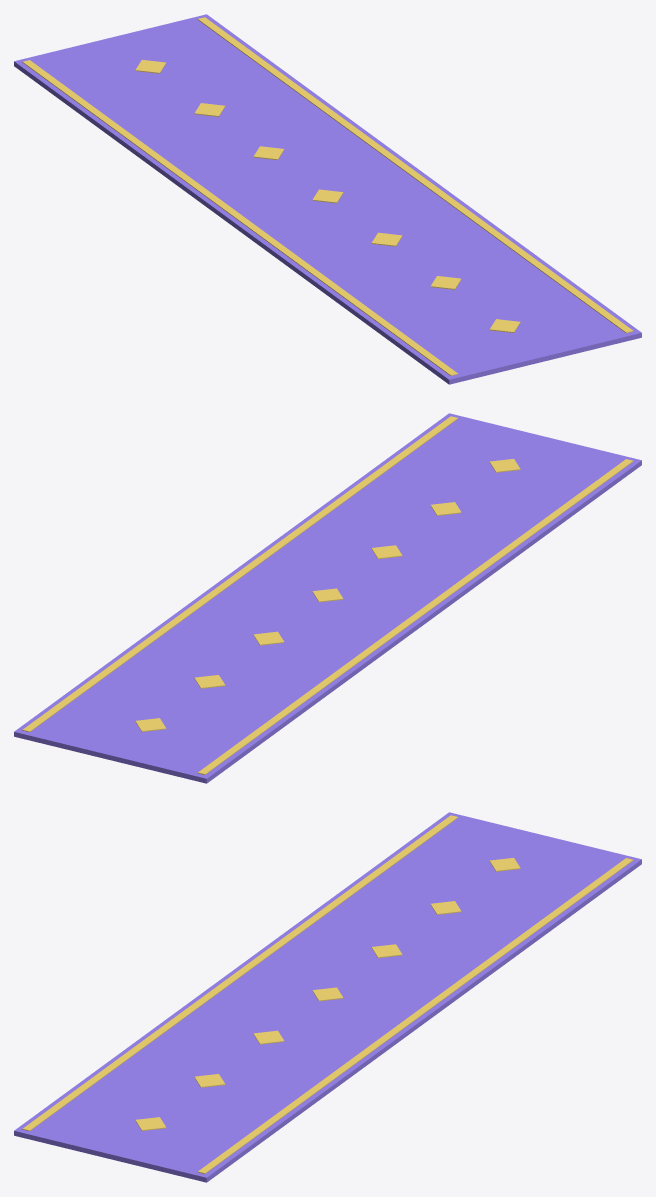
The picture shows the model from 3 angles, top to bottom: view 1: azimuth 30°, elevation 25°; view 2: azimuth 150°, elevation 25°; view 3: azimuth 330°, elevation 25°; orthographic projection.
Visible parts, largest first — view 1: Aisle runner, Woven gold border, Woven gold border.001; view 2: Aisle runner, Woven gold border, Woven gold border.001; view 3: Aisle runner, Woven gold border, Woven gold border.001.
Boxes of the visible parts, x1=… form: Aisle runner: x1=14, y1=14, x2=641, y2=384; Woven gold border: x1=22, y1=60, x2=457, y2=375; Woven gold border.001: x1=197, y1=17, x2=633, y2=333; Aisle runner: x1=14, y1=413, x2=641, y2=783; Woven gold border: x1=198, y1=459, x2=633, y2=774; Woven gold border.001: x1=22, y1=416, x2=458, y2=732; Aisle runner: x1=14, y1=812, x2=641, y2=1182; Woven gold border: x1=22, y1=815, x2=458, y2=1131; Woven gold border.001: x1=198, y1=858, x2=633, y2=1173.
Size of the model in its own units: 66 by 1.95 by 258.
